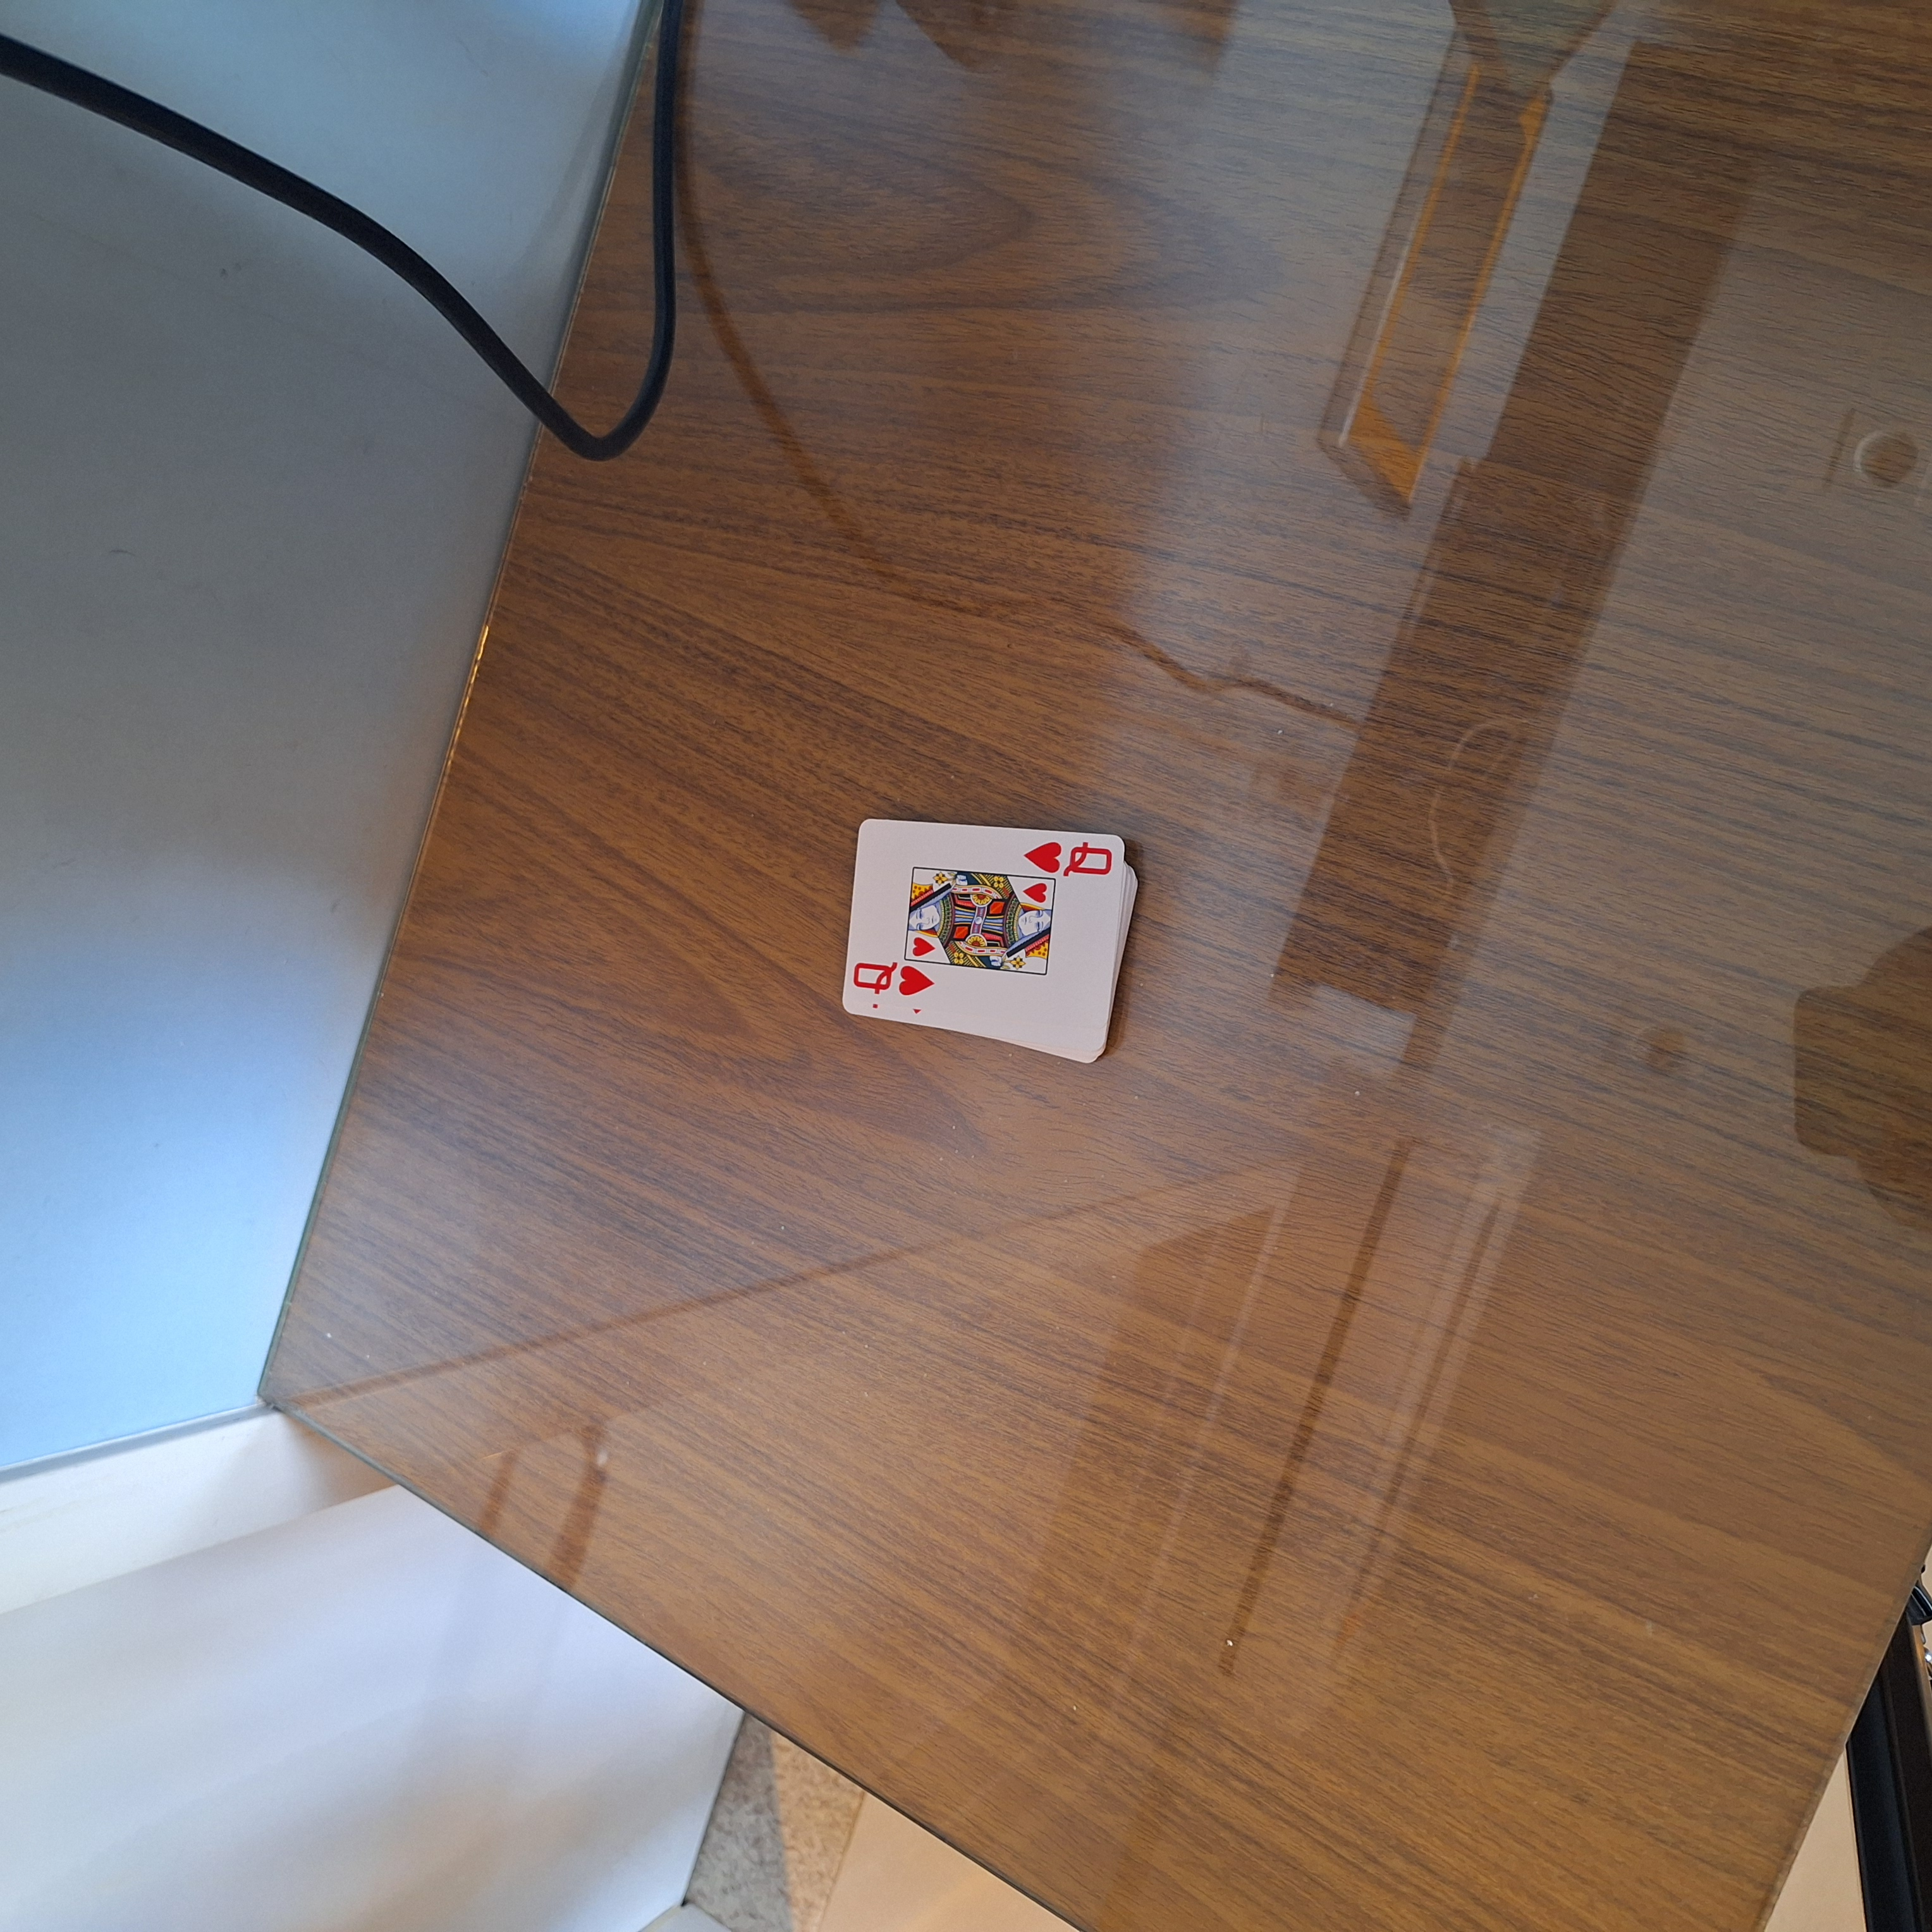QC: (1019, 830, 1122, 881), (847, 957, 941, 1001)
